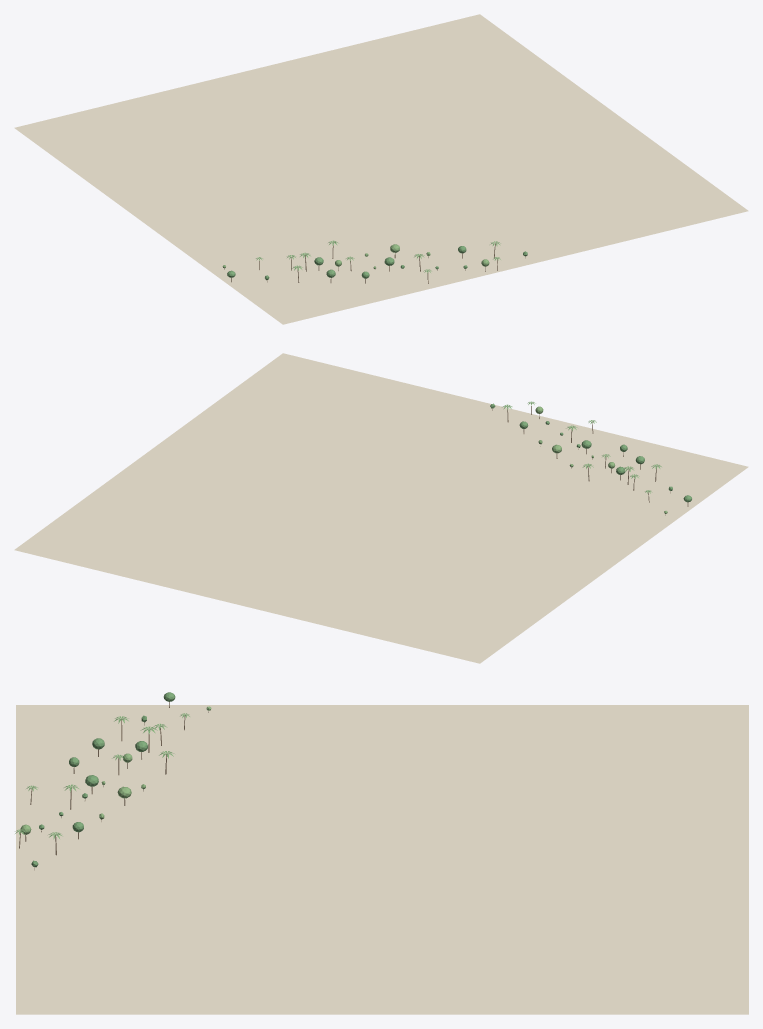
The model's file is nature_-6_-2.glb.
3 views of the same model, one above another, from view 1: azimuth 30°, elevation 25°; view 2: azimuth 150°, elevation 25°; view 3: azimuth 270°, elevation 25° (orthographic). The views are drawn at different scales.
Parts seen in each view (by area): view 1: ground; view 2: ground; view 3: ground, foliage_a.
Part boxes in pixels (<box>): ground: <box>14,14,748,324</box>; ground: <box>14,353,748,663</box>; ground: <box>16,705,748,1014</box>; foliage_a: <box>31,692,175,867</box>.
Bounding box in the file's own units: 250 × 8.93 × 251.
